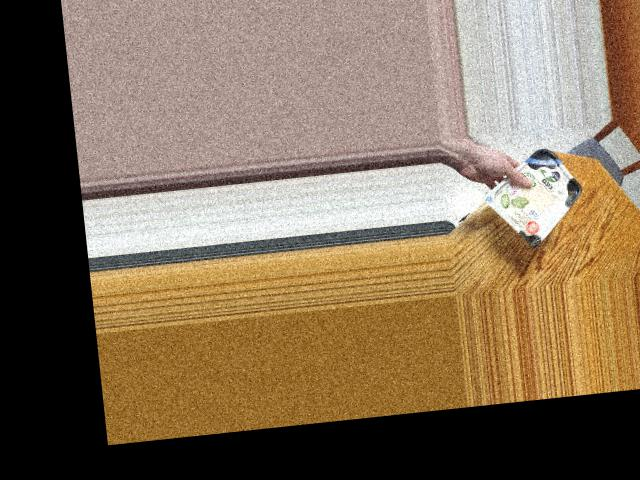cheese: (497, 152, 587, 238)
